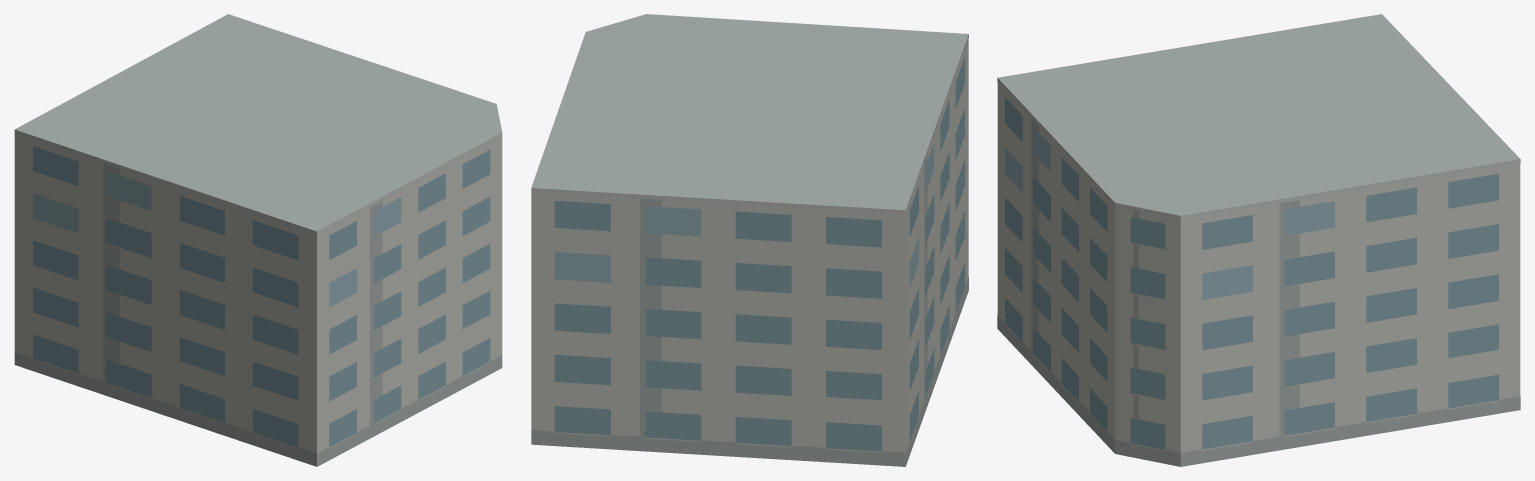
Rendered from survey-upis-32725895.glb.
The picture shows the model from 3 angles, left to right: view 1: azimuth 30°, elevation 25°; view 2: azimuth 150°, elevation 25°; view 3: azimuth 270°, elevation 25°; orthographic projection. The views are drawn at different scales.
Visible parts, largest first — view 1: survey-upis-32725895.tmp; view 2: survey-upis-32725895.tmp; view 3: survey-upis-32725895.tmp.
Boxes of the visible parts, bbox=[...] form: survey-upis-32725895.tmp: bbox=[14, 14, 502, 466]; survey-upis-32725895.tmp: bbox=[531, 14, 968, 466]; survey-upis-32725895.tmp: bbox=[997, 14, 1520, 466].
Size of the model in its own units: 26.3 by 15.25 by 28.8.
